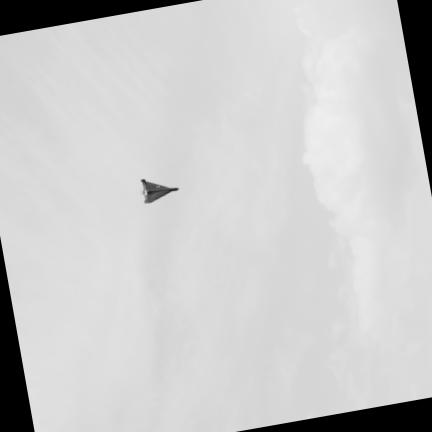Shahed: (141, 179, 178, 202)
